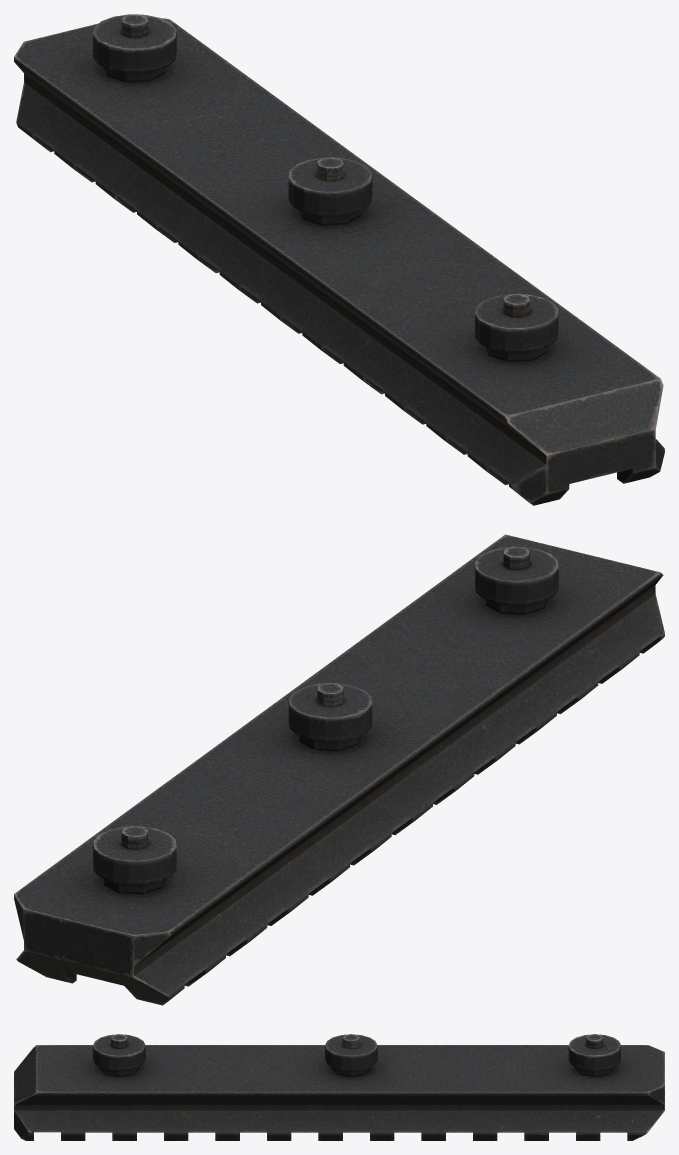
3 views of the same model, one above another, from view 1: azimuth 30°, elevation 25°; view 2: azimuth 150°, elevation 25°; view 3: azimuth 270°, elevation 25° (orthographic). The views are drawn at different scales.
Parts seen in each view (by area): view 1: TW_5f2aa493cd375f14e15eea72_PZ_Import; view 2: TW_5f2aa493cd375f14e15eea72_PZ_Import; view 3: TW_5f2aa493cd375f14e15eea72_PZ_Import.
Part boxes in pixels (x1,y1,x2,y2): TW_5f2aa493cd375f14e15eea72_PZ_Import: (14, 14, 664, 505); TW_5f2aa493cd375f14e15eea72_PZ_Import: (14, 534, 664, 1005); TW_5f2aa493cd375f14e15eea72_PZ_Import: (14, 1034, 664, 1140).
Size of the model in its own units: 0.0126 by 0.073 by 0.0106.
1 material, 1 textured.
